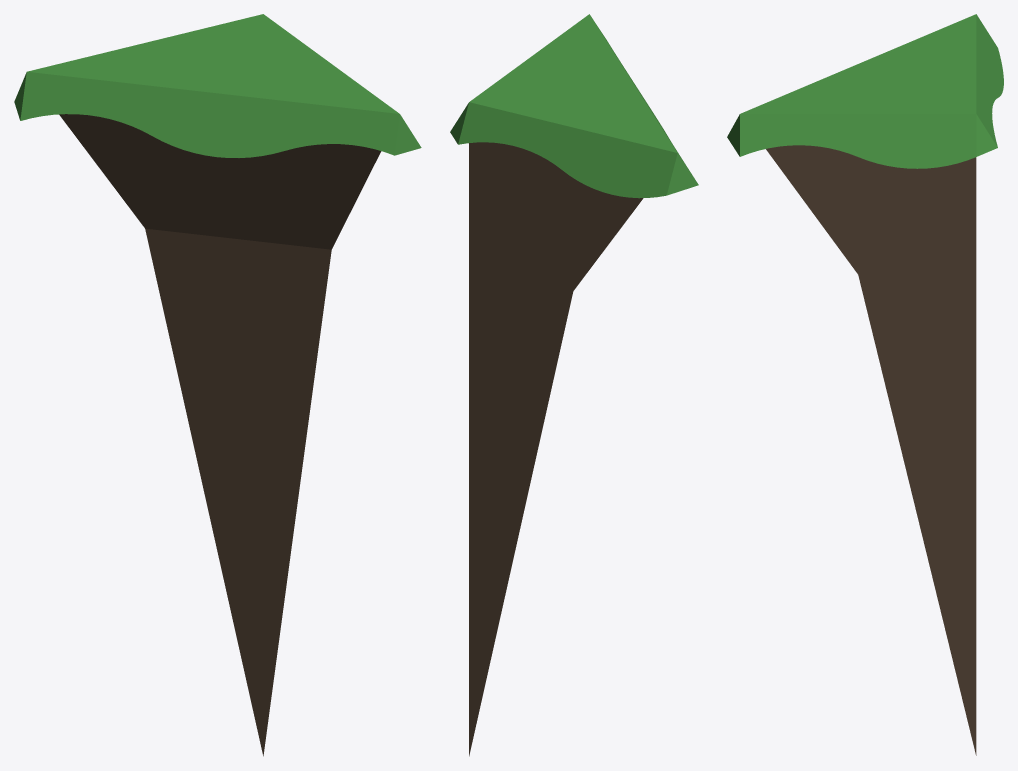
The model's file is tile_grass_corner_sharp_cliff.fbx.
3 views of the same model, side by side, from view 1: azimuth 30°, elevation 25°; view 2: azimuth 150°, elevation 25°; view 3: azimuth 270°, elevation 25° (orthographic). The views are drawn at different scales.
Parts seen in each view (by area): view 1: corner1cut; view 2: corner1cut; view 3: corner1cut.
Boxes of the visible parts, bbox=[...] form: corner1cut: bbox=[14, 14, 421, 756]; corner1cut: bbox=[450, 14, 698, 756]; corner1cut: bbox=[727, 14, 1003, 755].
Size of the model in its own units: 118 by 300 by 117.
